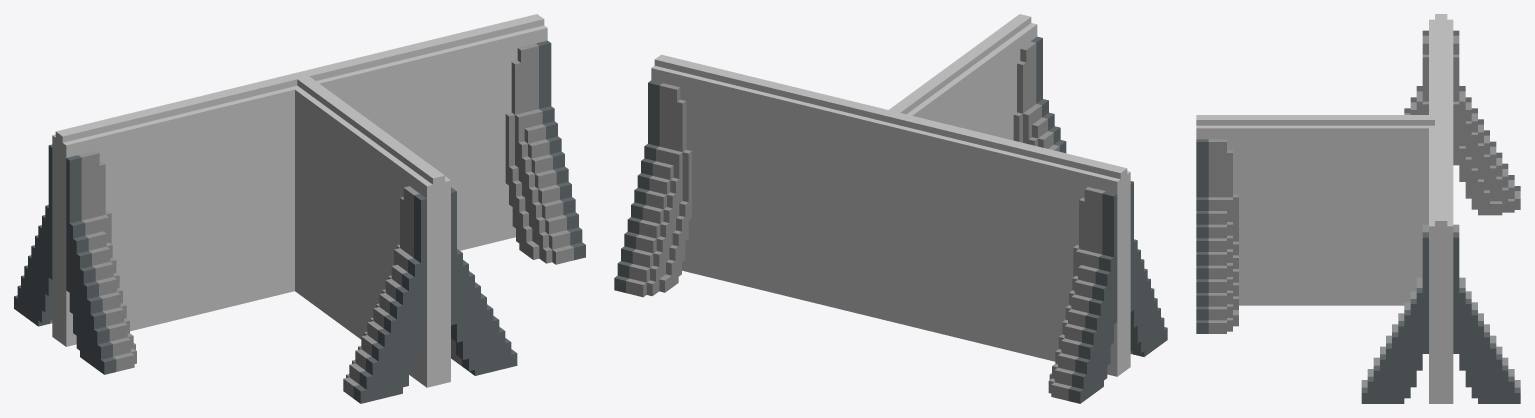
The model's file is wall4_t2.obj.
3 renders of one model, left to right at view 1: azimuth 30°, elevation 25°; view 2: azimuth 150°, elevation 25°; view 3: azimuth 270°, elevation 25°, orthographic. The views are drawn at different scales.
Bounding box in the file's own units: 8 × 3.3 × 5.3.
Materials: 1 (1 with a texture image).
